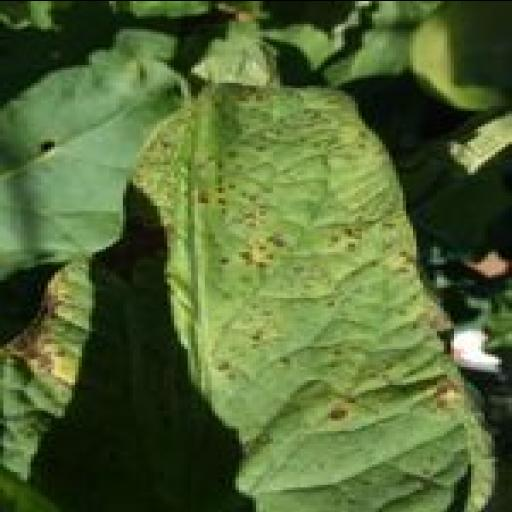disease_tomato: (25, 77, 501, 512)
